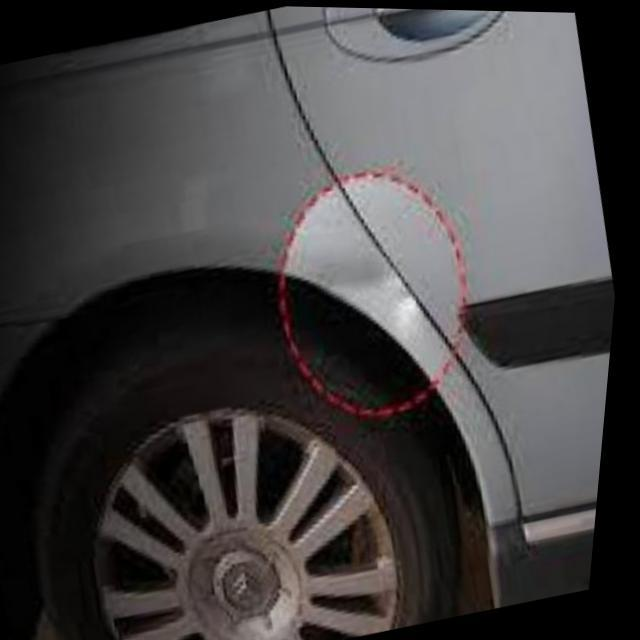dent: (290, 167, 474, 369)
